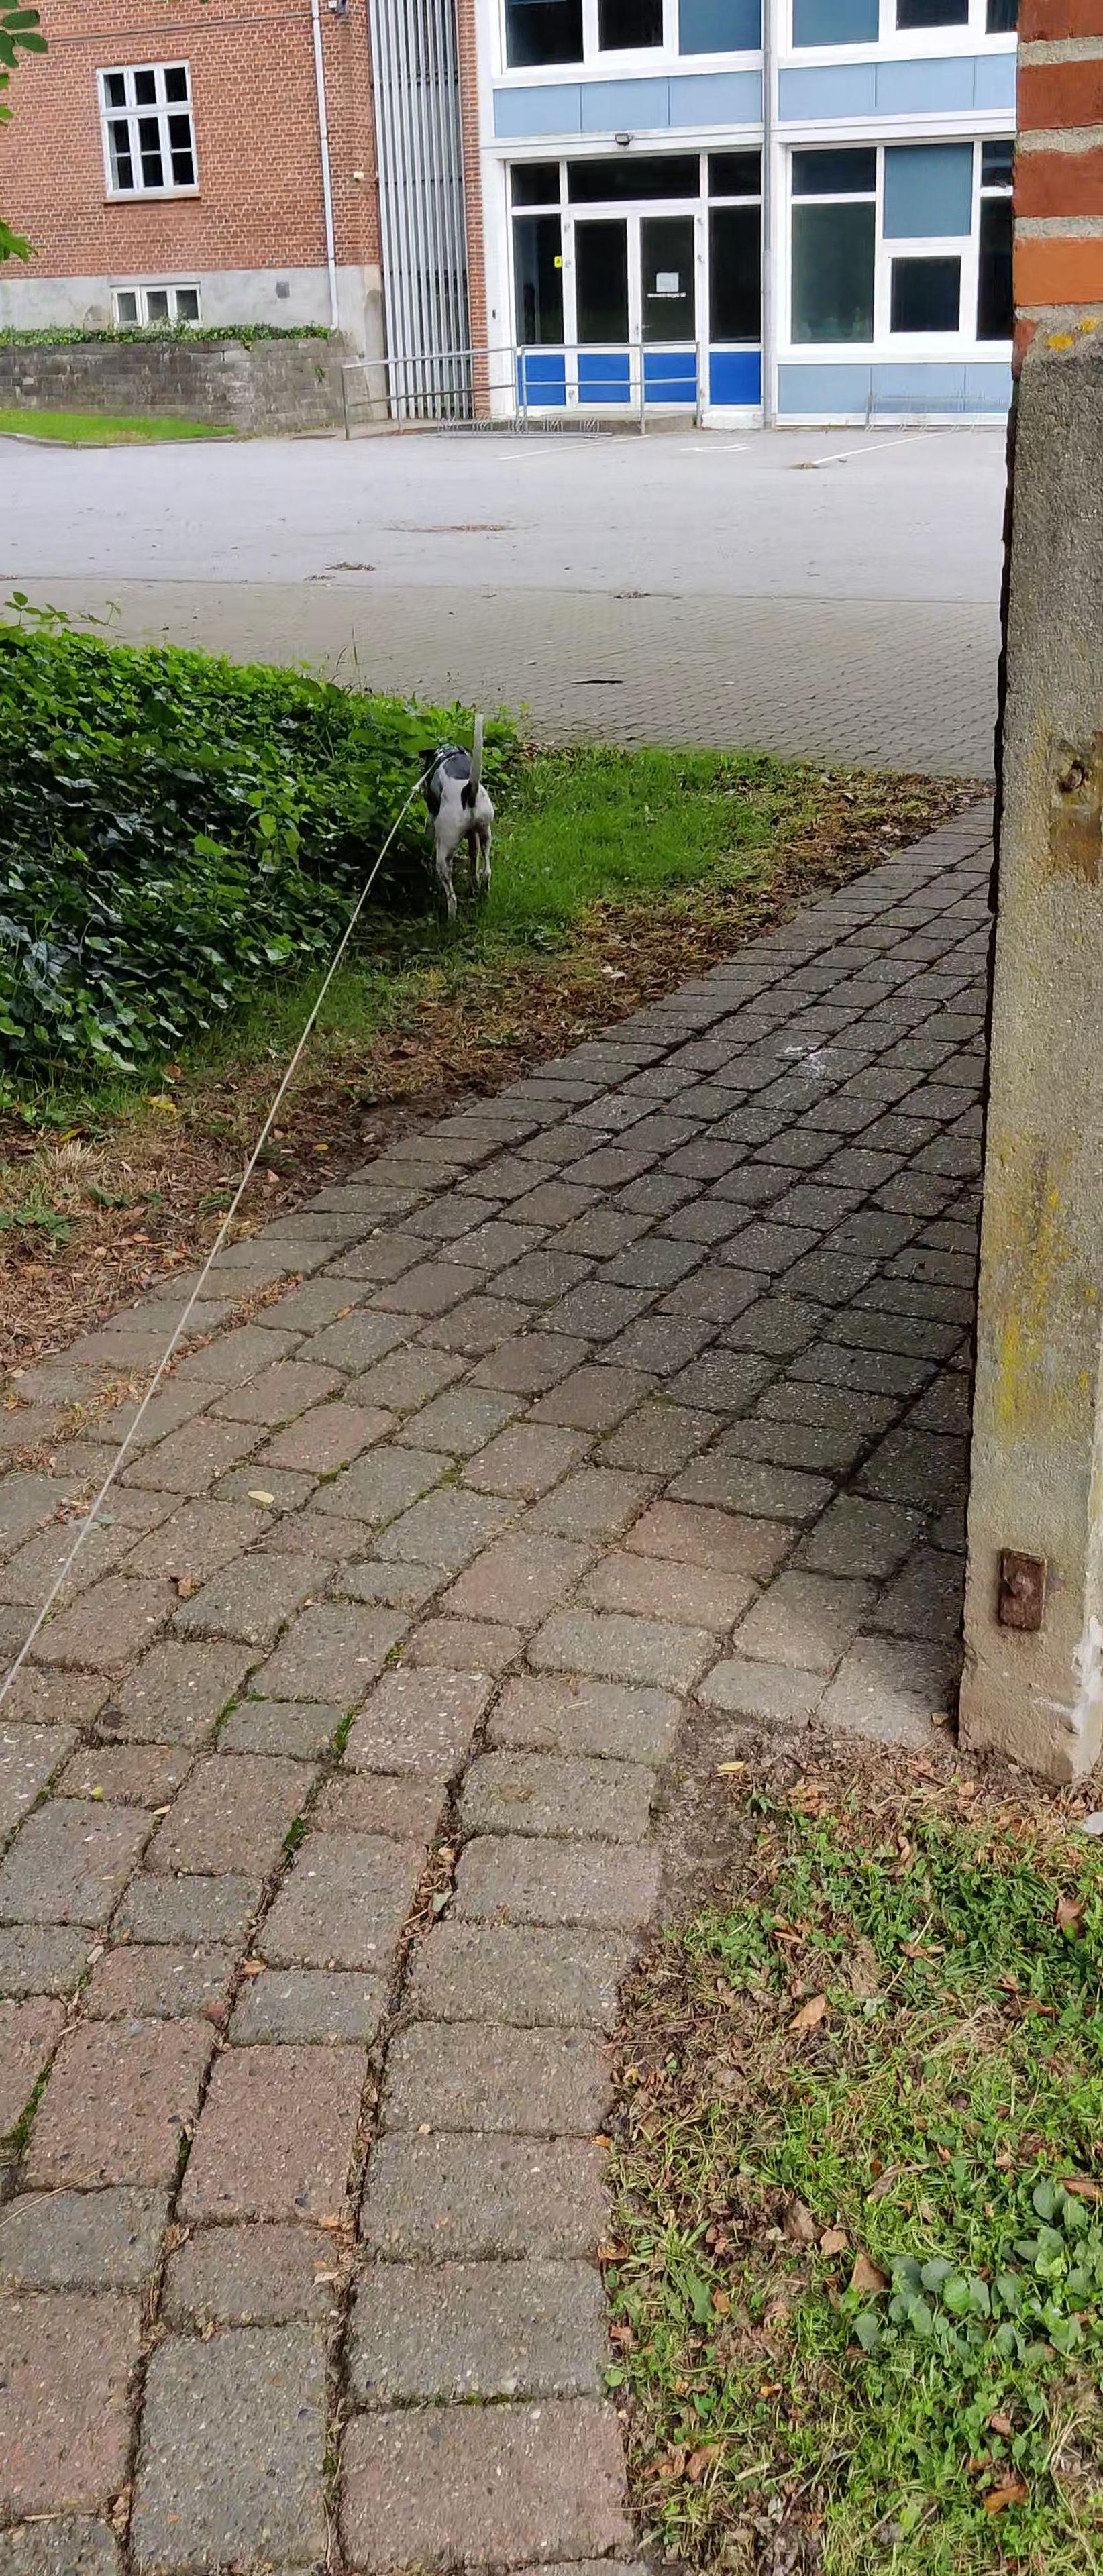Dog: (409, 703, 498, 930)
